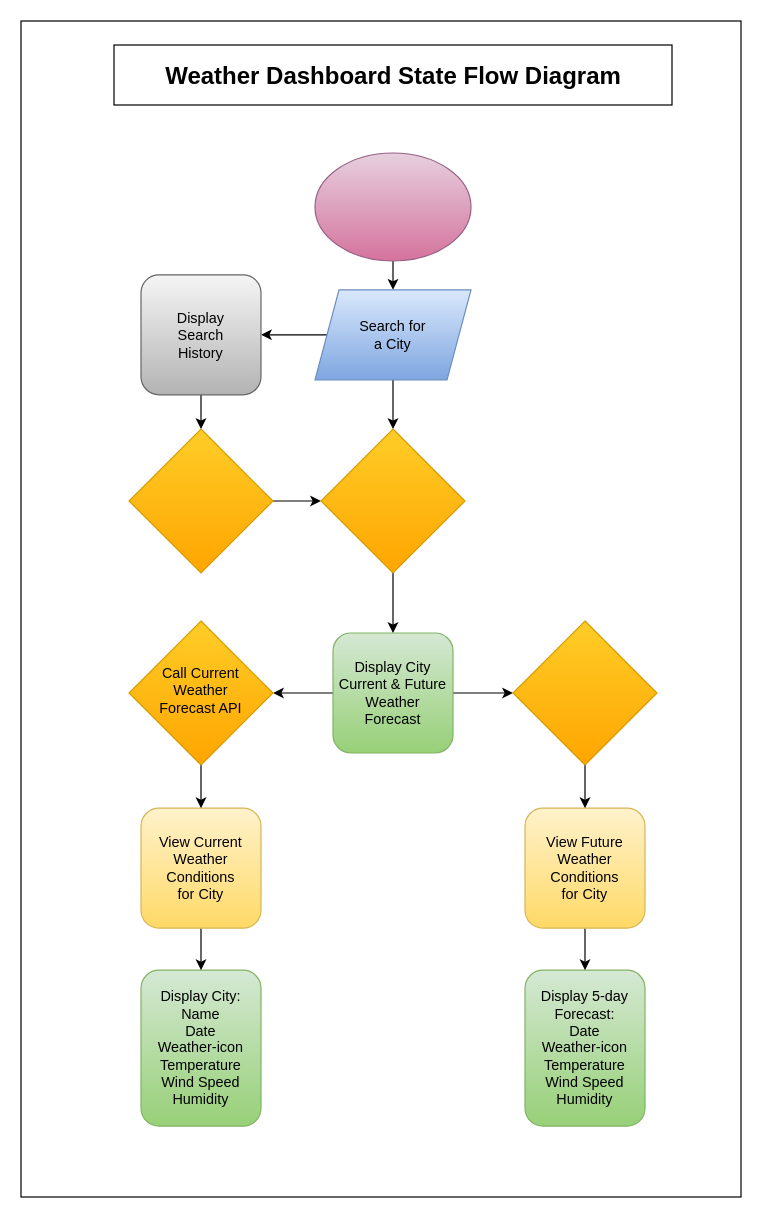
This 762x1228 diagram has some shape labels left out. Here are the shapes that lost their labels. From the top down, the centre of each, then its label:
pixel 392 206: Open Weather Dashboard
pixel 200 500: Click City on Search History
pixel 392 500: Call Geocoding API
pixel 584 692: Call 5-Day Weather Forecast API
